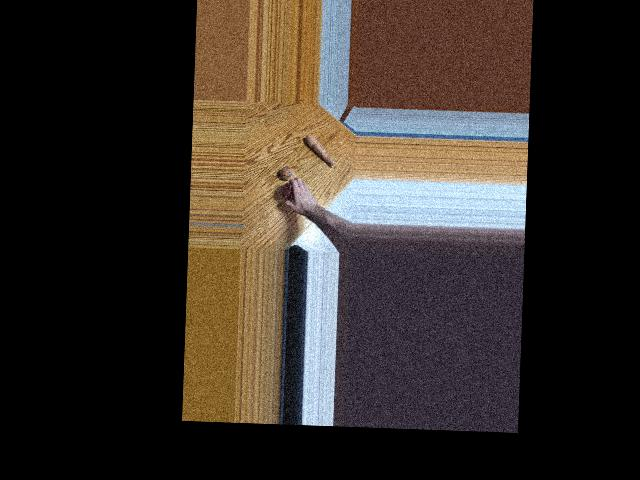onion: (282, 182, 299, 201)
